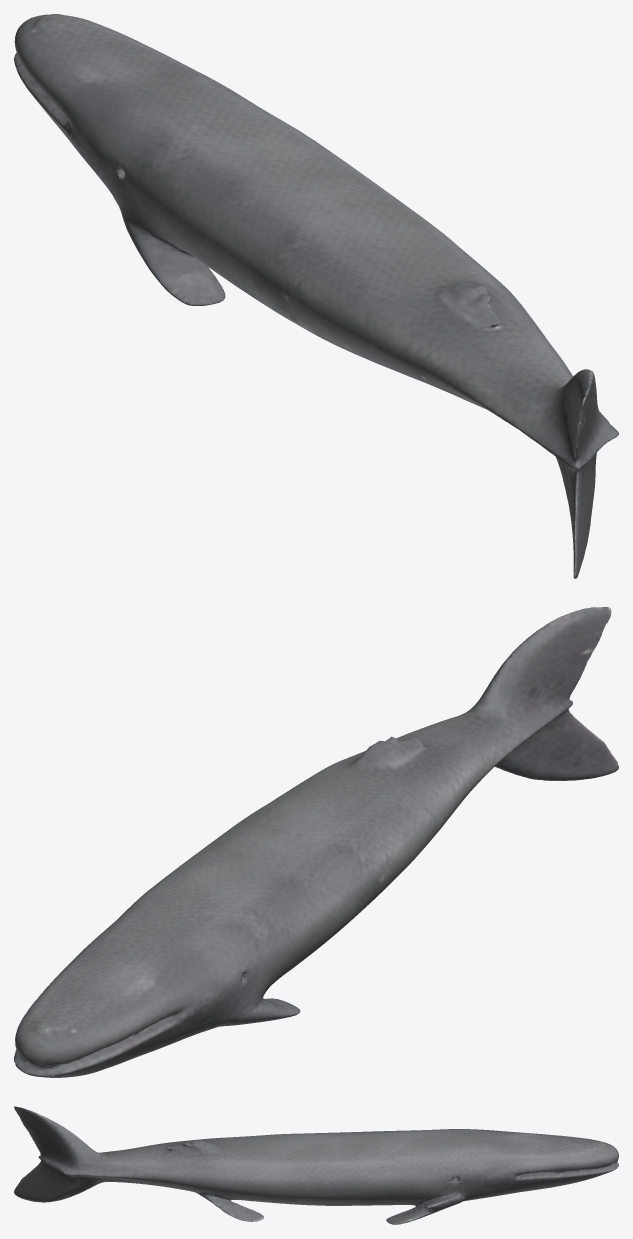
The model's file is whale_hero.glb.
The picture shows the model from 3 angles, top to bottom: view 1: azimuth 30°, elevation 25°; view 2: azimuth 150°, elevation 25°; view 3: azimuth 270°, elevation 25°; orthographic projection. The views are drawn at different scales.
Visible parts, largest first — view 1: whale_hero3; view 2: whale_hero3; view 3: whale_hero3.
Boxes of the visible parts, box(x1,y1,x2,y2) form: whale_hero3: box(14, 14, 618, 578); whale_hero3: box(14, 607, 618, 1077); whale_hero3: box(14, 1106, 618, 1224).
Bounding box in the file's own units: 6.57 × 5.64 × 33.
1 material, 1 textured.
